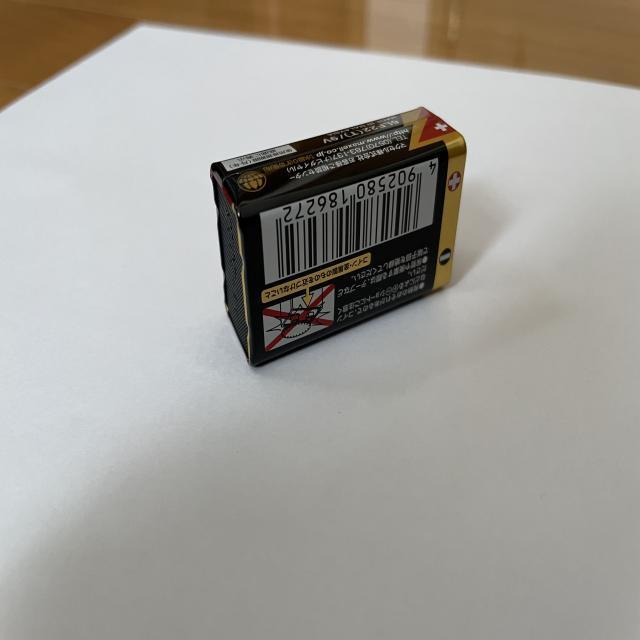9V: (211, 108, 469, 367)
